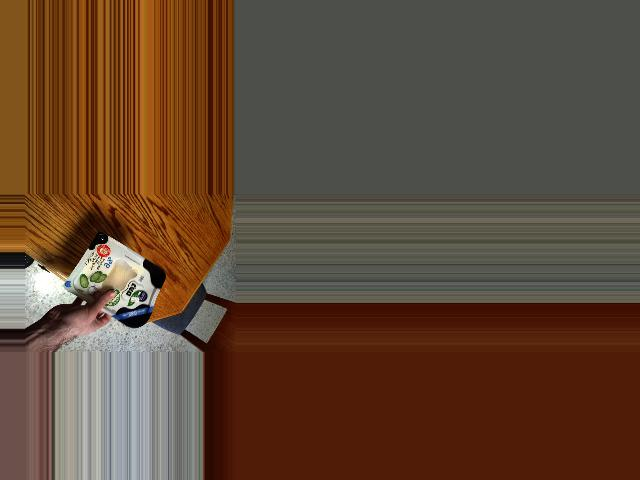cheese: (77, 240, 172, 328)
